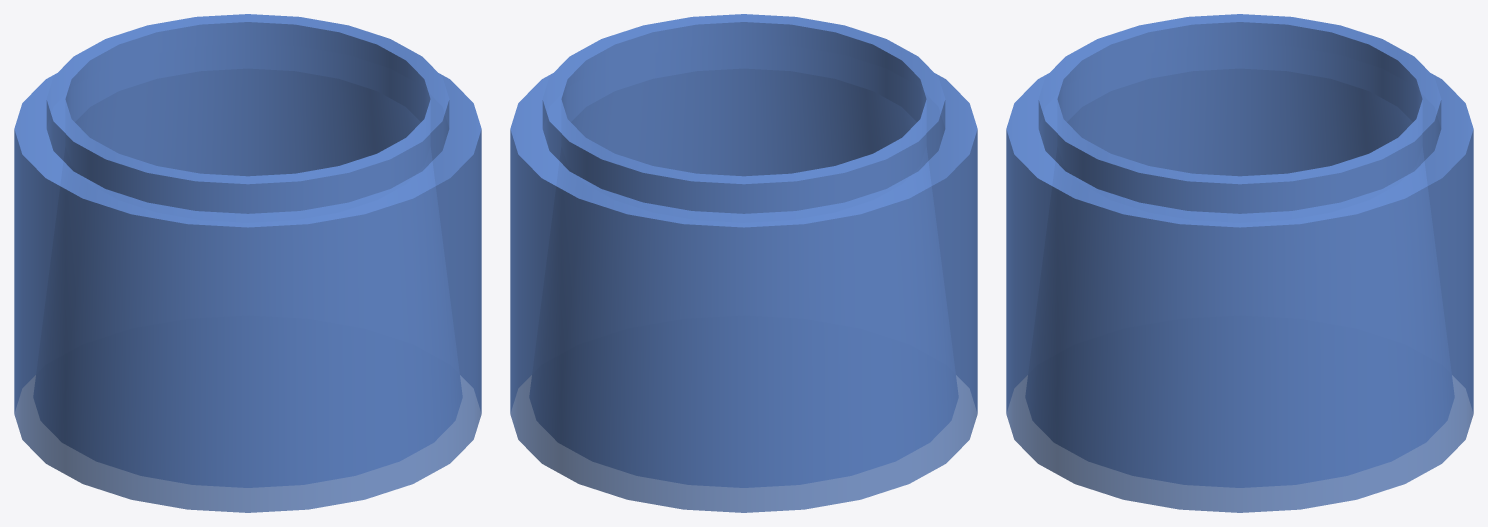
File: original-2.obj
3 views of the same model, side by side, from view 1: azimuth 30°, elevation 25°; view 2: azimuth 150°, elevation 25°; view 3: azimuth 270°, elevation 25° (orthographic).
Parts seen in each view (by area): view 1: mesh6/mesh6-geometry#mesh6-geometry; view 2: mesh6/mesh6-geometry#mesh6-geometry; view 3: mesh6/mesh6-geometry#mesh6-geometry.
Boxes of the visible parts, <box> form: mesh6/mesh6-geometry#mesh6-geometry: <box>14,14,481,512</box>; mesh6/mesh6-geometry#mesh6-geometry: <box>510,14,977,512</box>; mesh6/mesh6-geometry#mesh6-geometry: <box>1006,14,1473,512</box>.
Bounding box in the file's own units: 1.53 × 1.14 × 1.53.
